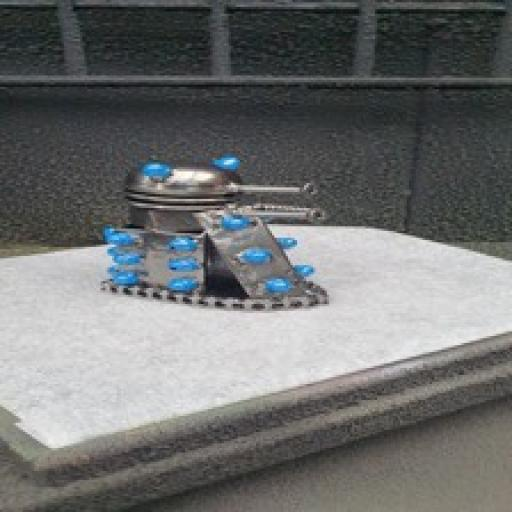dalek: (96, 150, 342, 314)
